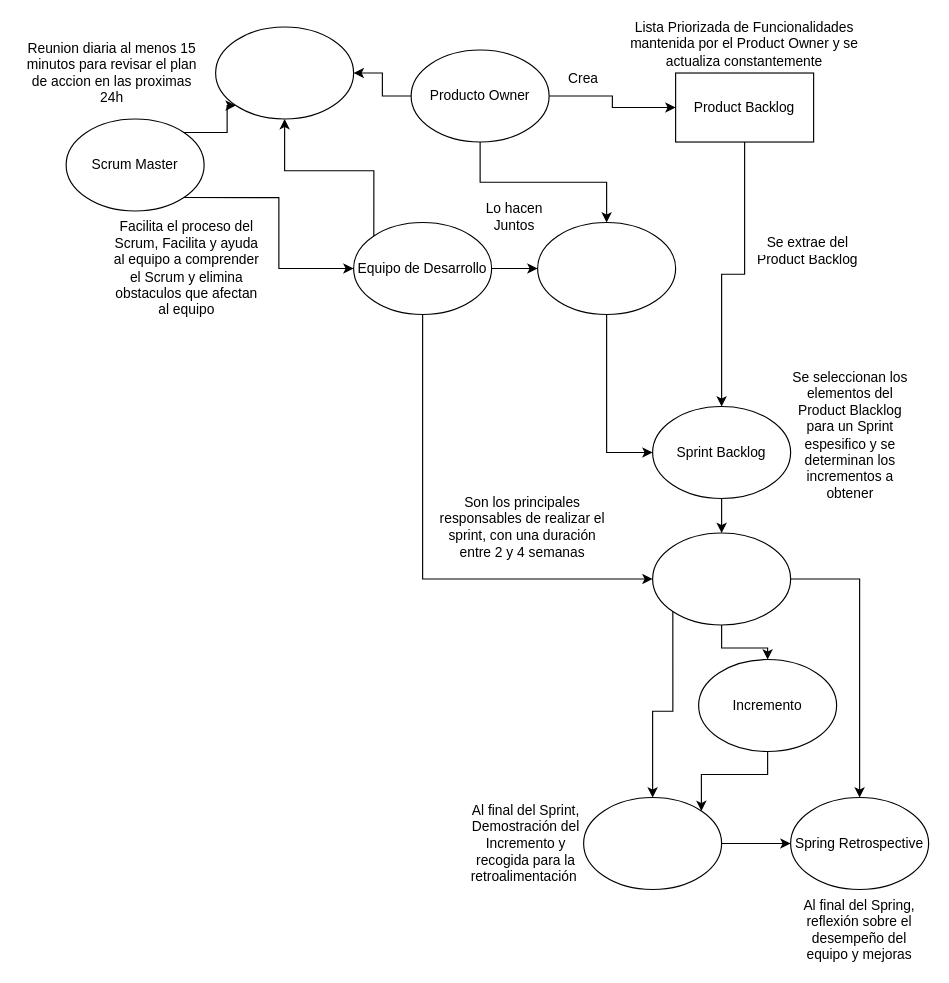
This 949x983 diagram has some shape labels left out. Here are the shapes that lost their labels. From the top down, the centre of each, then its label:
(x=284, y=72): Daily Scrum
(x=606, y=268): Sprint Planning
(x=721, y=578): Sprint
(x=652, y=843): Spring Review
